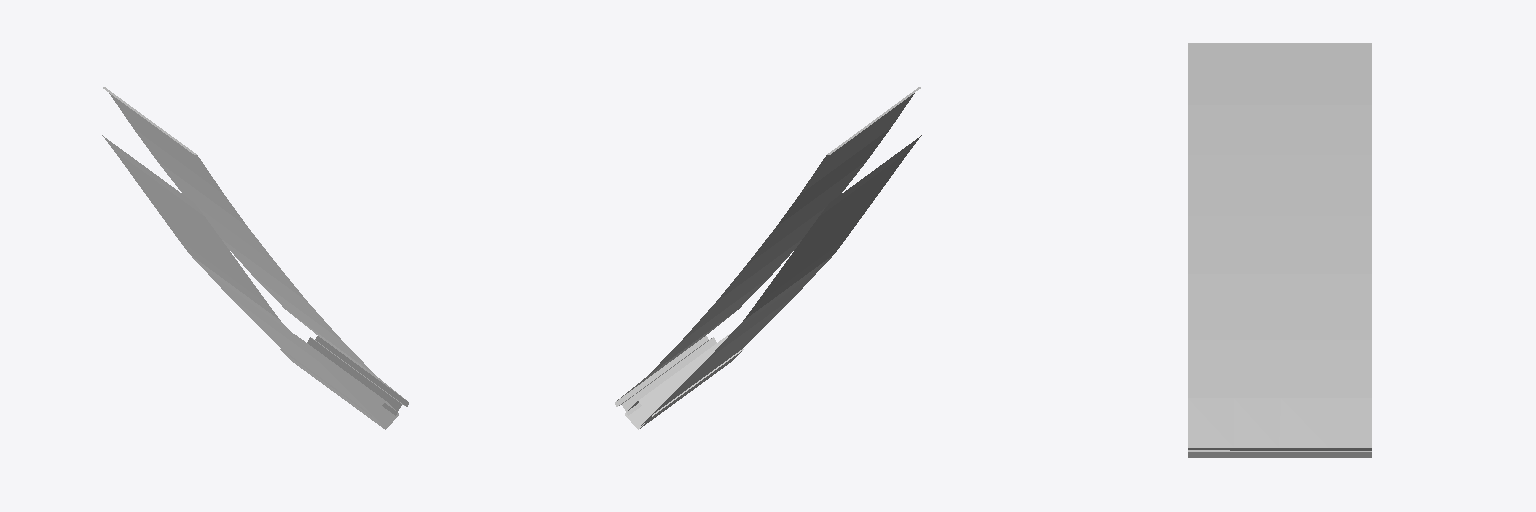
File: Roof_Modular_FlatTiles_4_Mid_Half.obj
3 views of the same model, side by side, from view 1: azimuth 30°, elevation 25°; view 2: azimuth 150°, elevation 25°; view 3: azimuth 270°, elevation 25° (orthographic).
Visible parts, largest first — view 1: Roof_Modular_FlatTiles_4_Mid_Half; view 2: Roof_Modular_FlatTiles_4_Mid_Half; view 3: Roof_Modular_FlatTiles_4_Mid_Half.
Part boxes in pixels (x1,y1,x2,y2): Roof_Modular_FlatTiles_4_Mid_Half: (102, 87, 408, 429); Roof_Modular_FlatTiles_4_Mid_Half: (615, 87, 921, 429); Roof_Modular_FlatTiles_4_Mid_Half: (1188, 43, 1371, 457).
Bounding box in the file's own units: 2.7 × 3.85 × 2.